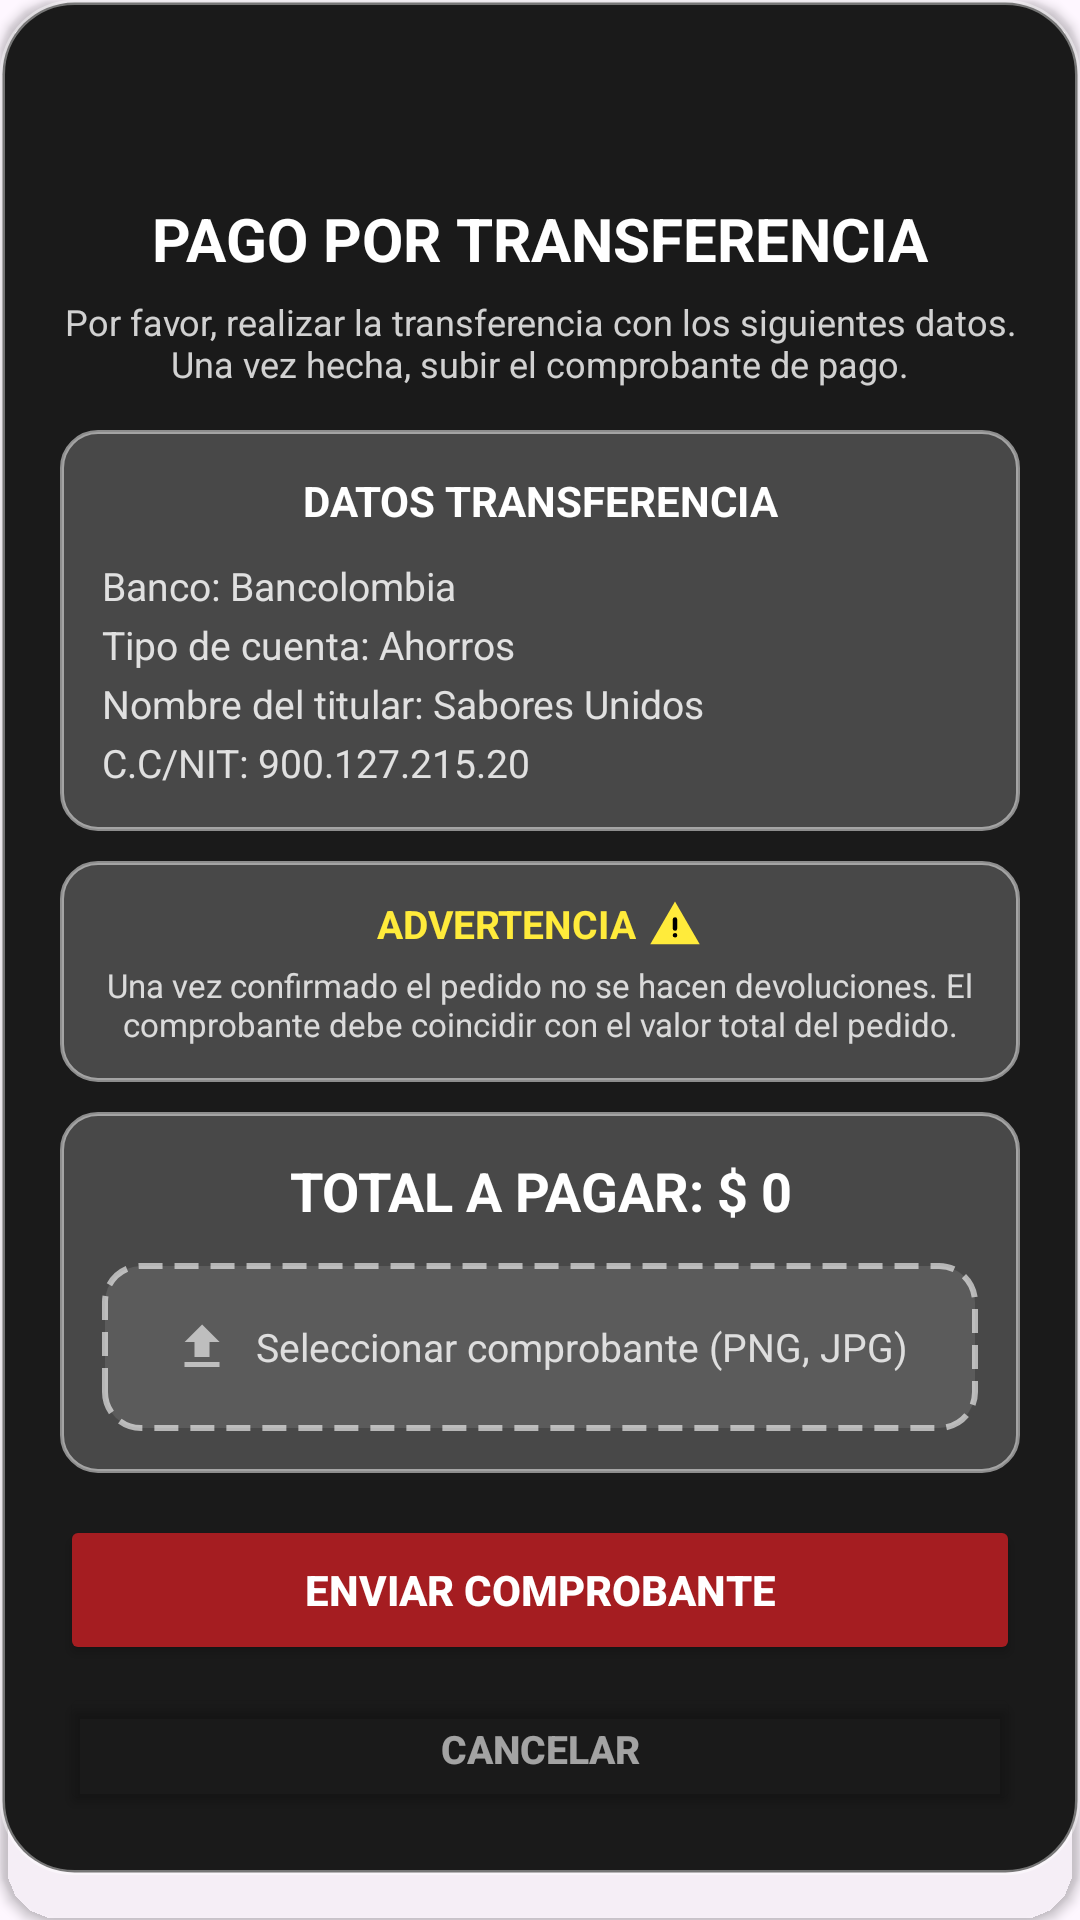

Point at icon controls on the screen. Image size 1080px x 1920px, points as (x,y).
Subir: (202,1346)
